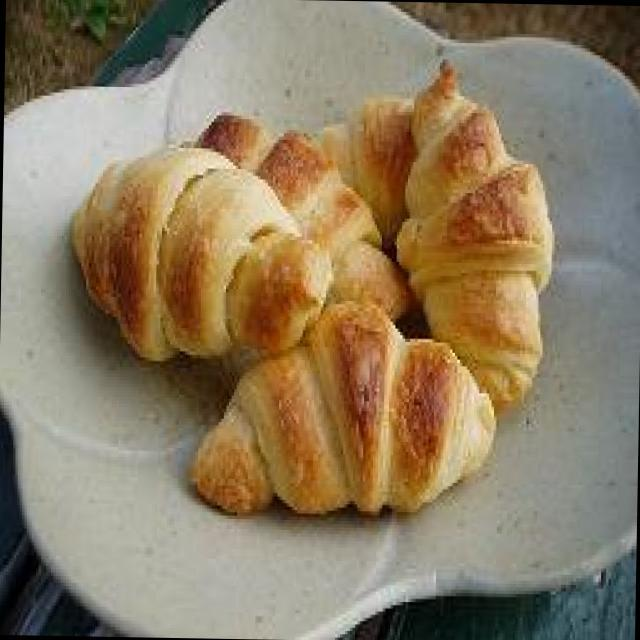Croissant: (54, 132, 328, 358)
